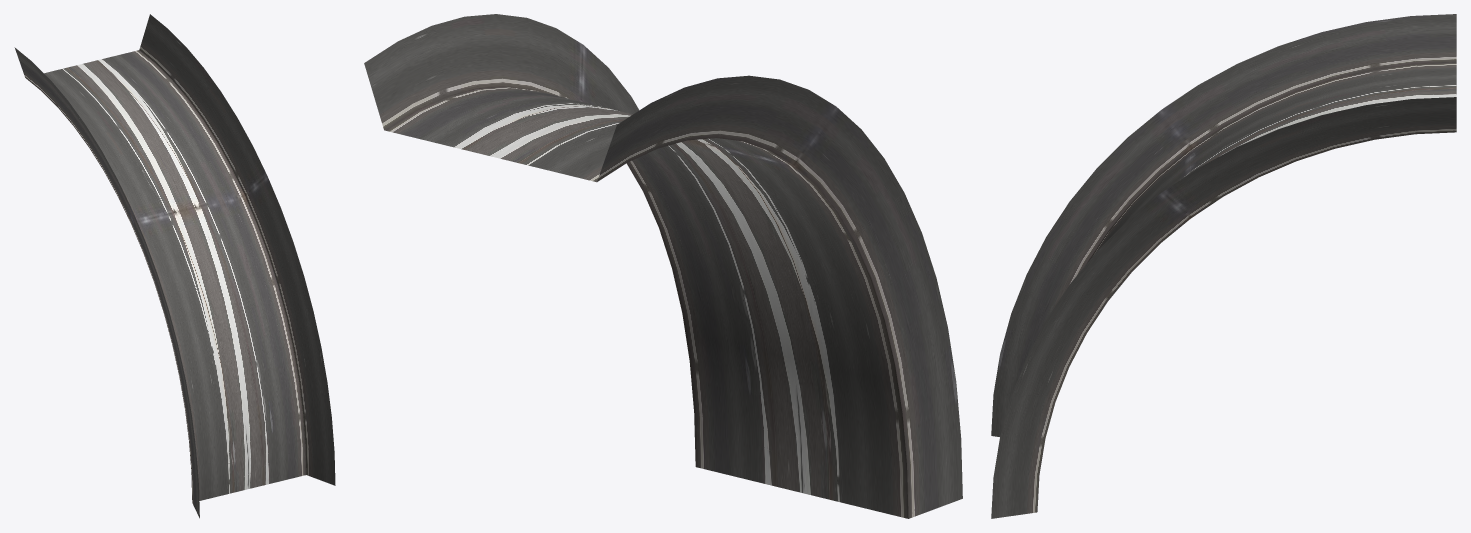
Rendered from AngleTrackDownTight.fbx.
3 views of the same model, side by side, from view 1: azimuth 30°, elevation 25°; view 2: azimuth 150°, elevation 25°; view 3: azimuth 270°, elevation 25° (orthographic). The views are drawn at different scales.
Visible parts, largest first — view 1: polySurface1; view 2: polySurface1; view 3: polySurface1.
Boxes of the visible parts, <box> form: polySurface1: <box>14,14,335,518</box>; polySurface1: <box>364,14,962,518</box>; polySurface1: <box>991,14,1456,518</box>.
Bounding box in the file's own units: 7.13 × 16.89 × 16.89.
